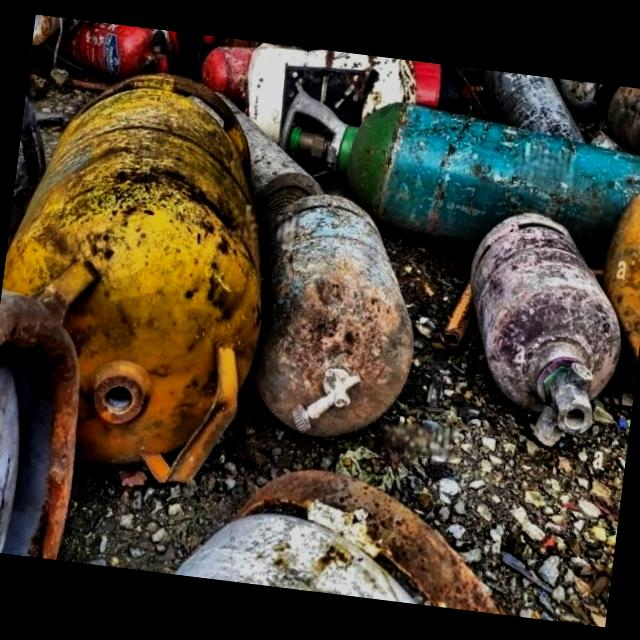Cylinders: (254, 188, 411, 431), (471, 213, 621, 432)
